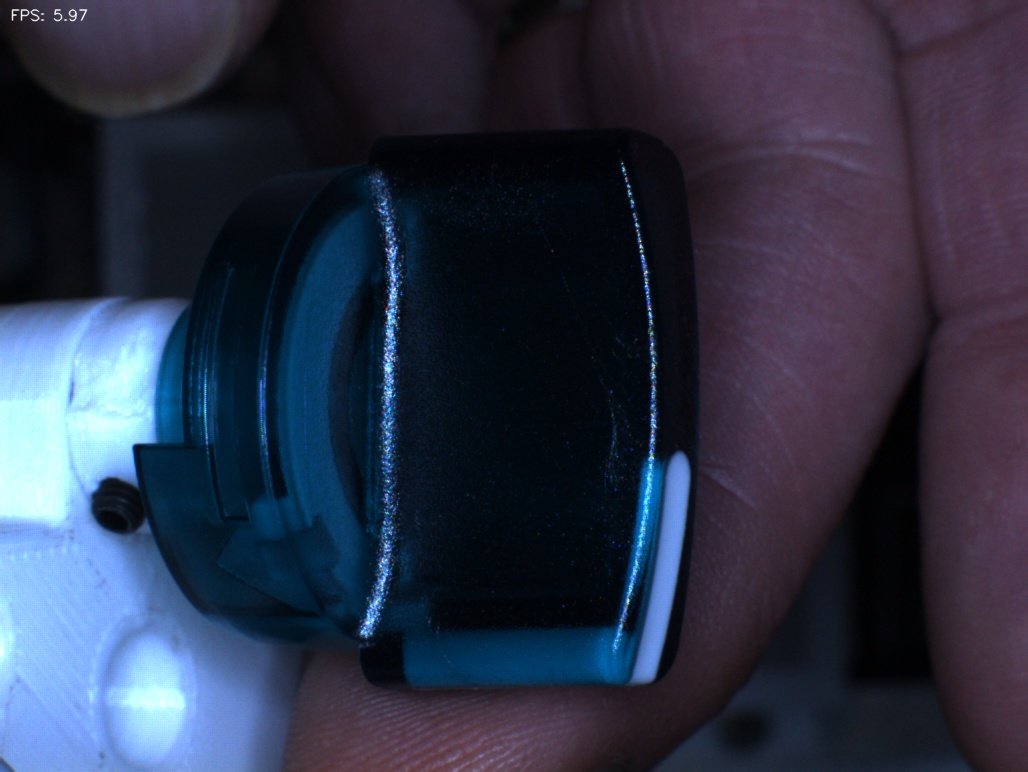Givrage: (569, 333, 640, 500)
